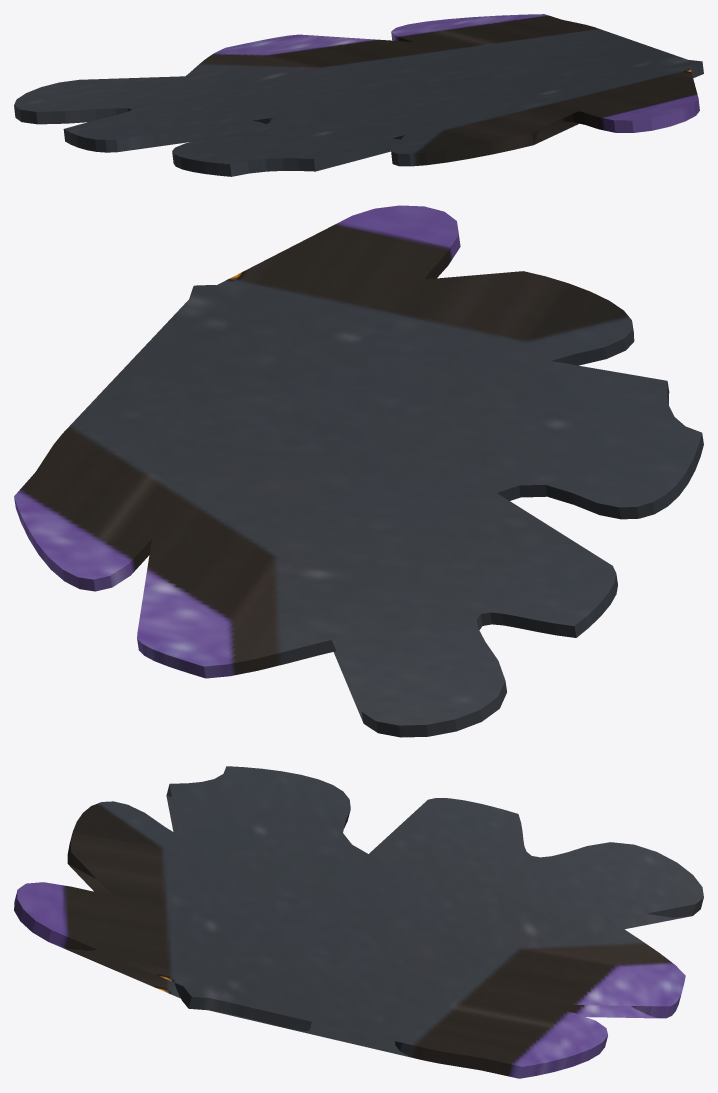
The model's file is Single_Puzzle_Piece_00.fbx.
The picture shows the model from 3 angles, top to bottom: view 1: azimuth 30°, elevation 25°; view 2: azimuth 150°, elevation 25°; view 3: azimuth 270°, elevation 25°; orthographic projection. The views are drawn at different scales.
Visible parts, largest first — view 1: Plane.015; view 2: Plane.015; view 3: Plane.015.
Part boxes in pixels (x1,y1,x2,y2): Plane.015: [14, 14, 703, 176]; Plane.015: [14, 205, 703, 737]; Plane.015: [14, 766, 703, 1078].
Bounding box in the file's own units: 136 × 39.42 × 157.
